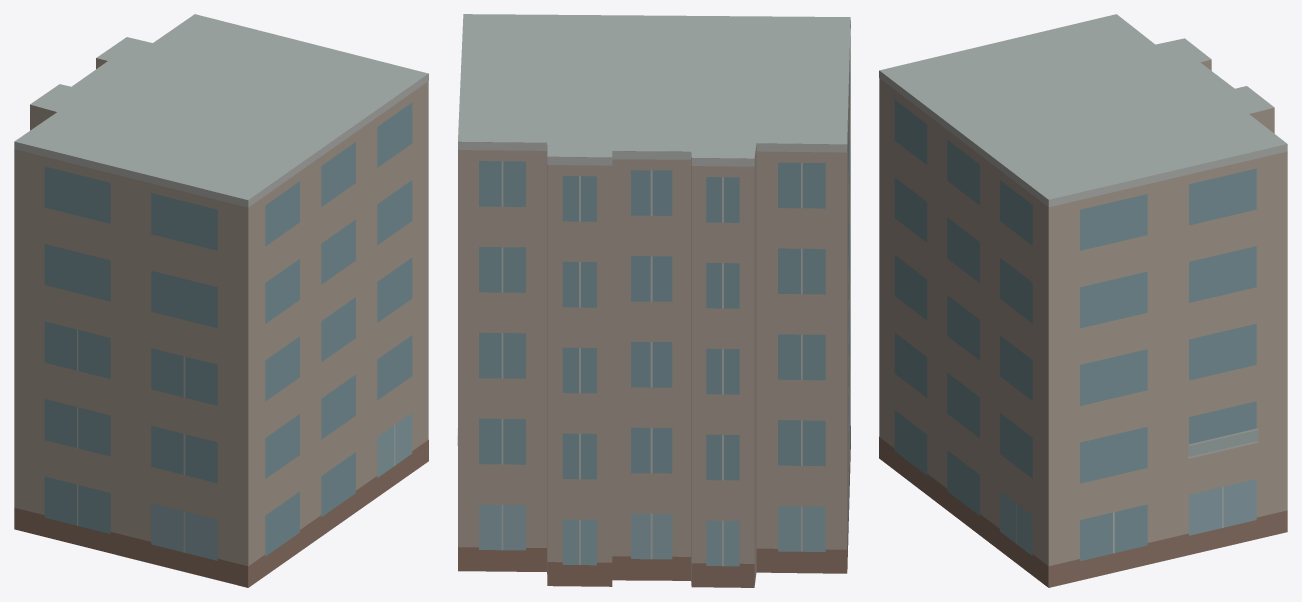
File: survey-upis-32973750.glb
The picture shows the model from 3 angles, left to right: view 1: azimuth 30°, elevation 25°; view 2: azimuth 150°, elevation 25°; view 3: azimuth 270°, elevation 25°; orthographic projection. The views are drawn at different scales.
Parts seen in each view (by area): view 1: survey-upis-32973750.tmp; view 2: survey-upis-32973750.tmp; view 3: survey-upis-32973750.tmp.
Boxes of the visible parts, box(x1,y1,x2,y2) form: survey-upis-32973750.tmp: box(14, 14, 428, 587); survey-upis-32973750.tmp: box(457, 14, 850, 587); survey-upis-32973750.tmp: box(879, 14, 1287, 587).
Size of the model in its own units: 13.07 by 12.71 by 12.14.
